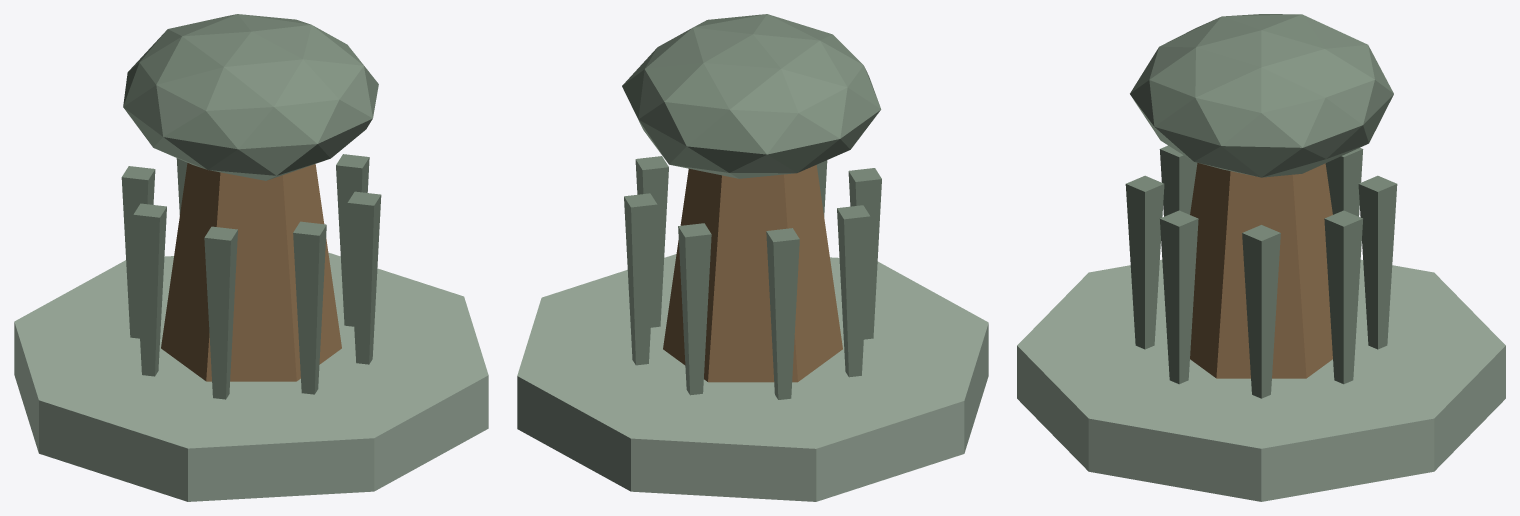
The model's file is graveyard-g0.glb.
The picture shows the model from 3 angles, left to right: view 1: azimuth 30°, elevation 25°; view 2: azimuth 150°, elevation 25°; view 3: azimuth 270°, elevation 25°; orthographic projection.
Parts seen in each view (by area): view 1: graveyard-g0; view 2: graveyard-g0; view 3: graveyard-g0.
Part boxes in pixels (bbox=[...]): graveyard-g0: bbox=[14, 14, 488, 501]; graveyard-g0: bbox=[517, 14, 988, 501]; graveyard-g0: bbox=[1017, 14, 1505, 501].
Size of the model in its own units: 0.5 by 0.4159 by 0.5.
